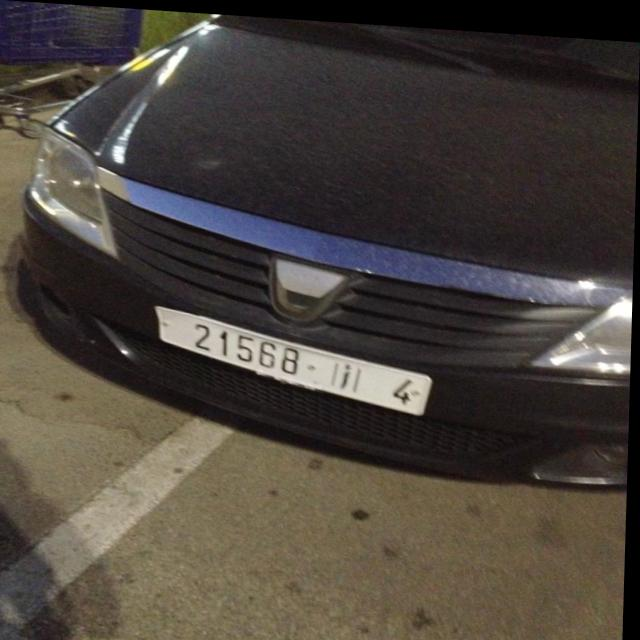License-Plate: (158, 304, 434, 408)
